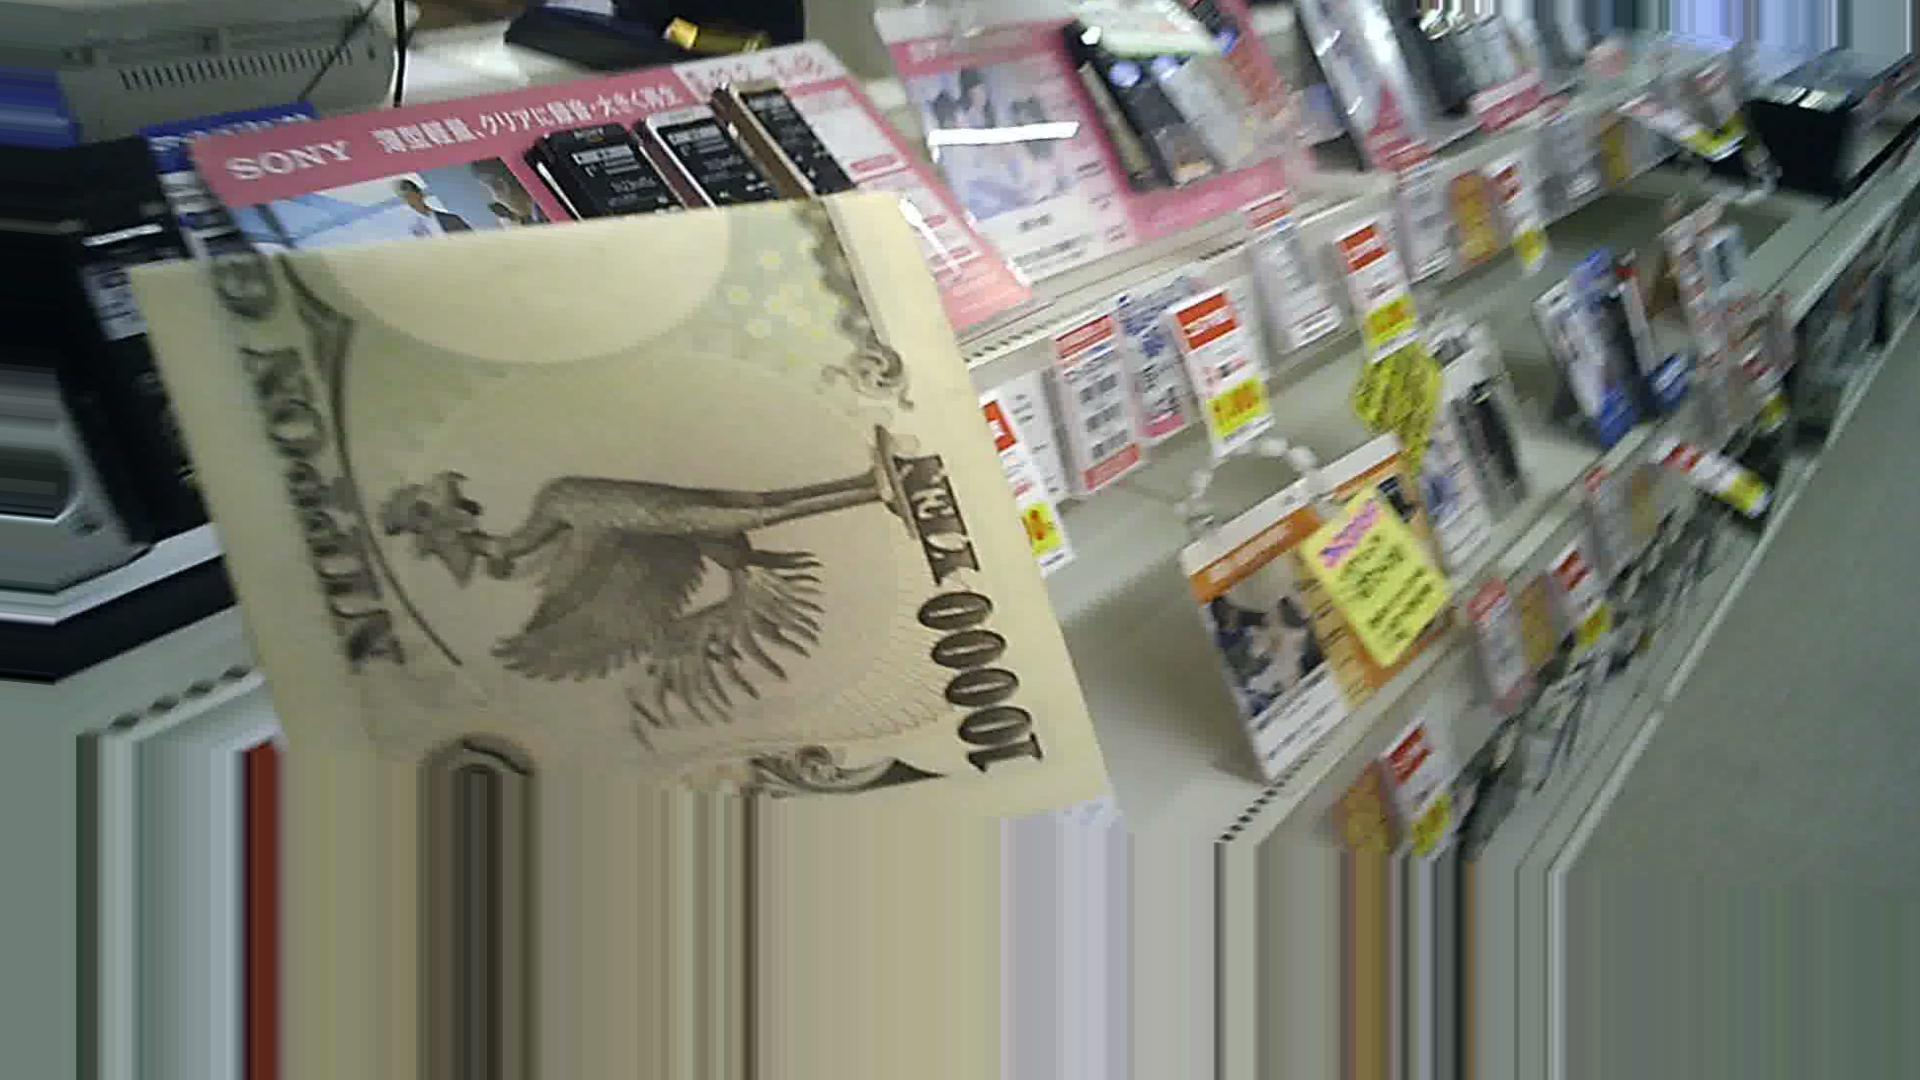10,000 Yen: (142, 204, 1120, 848)
